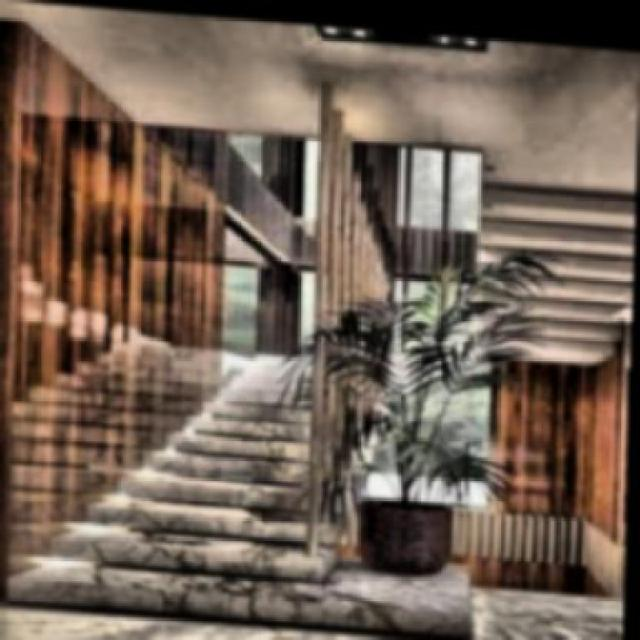stair: (0, 326, 332, 617)
